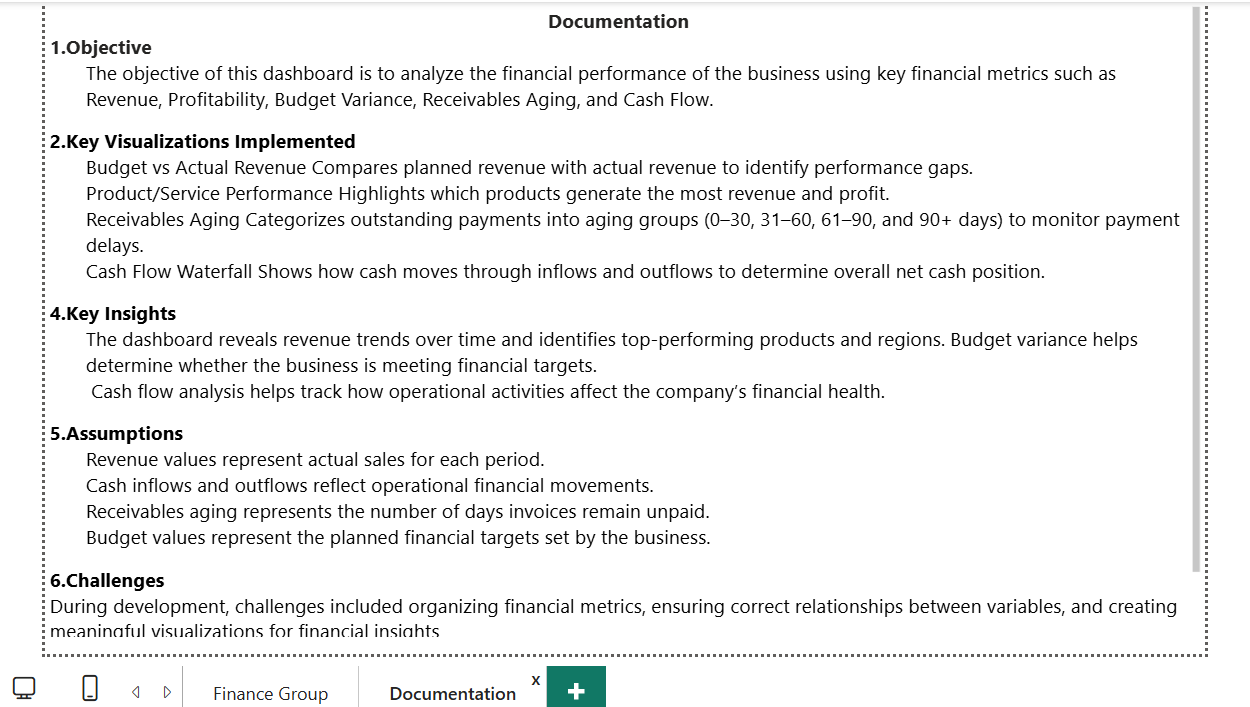

Layout of this report page (visuals, bound fields, positions):
{"tool":"powerbi","page":{"name":"Documentation","canvas":[1280,720],"ordinal":1},"visuals":[{"type":"textbox","box":[0,0,1280.5,705.7],"z":0}]}

Visuals, with their boxes on the page's 1280x720 design canvas (x1, y1, x2, y2). These are canvas units, not pixel positions in the 1250x707 screenshot, which may show the page scaled, cropped or inside an application window:
textbox: x1=0, y1=0, x2=1280, y2=706
